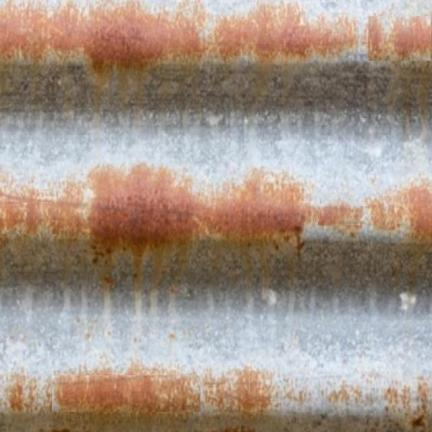karat: (0, 0, 362, 106)
